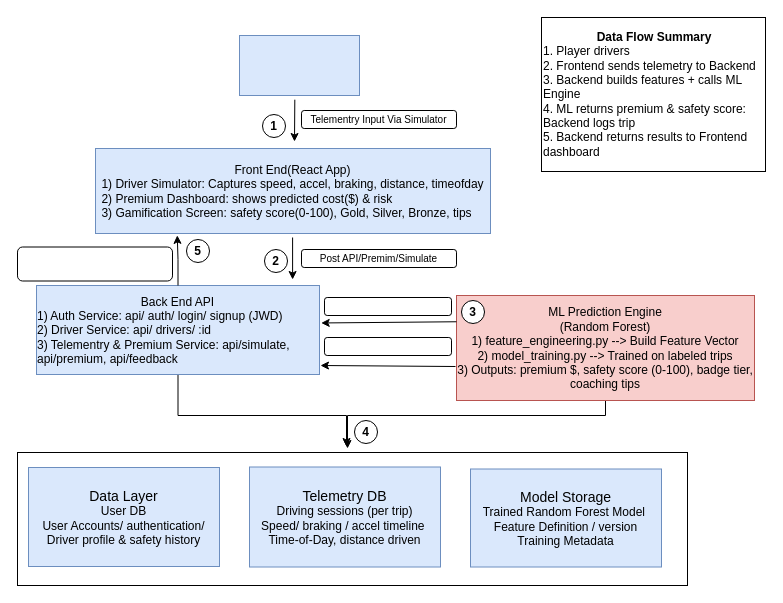
This 783x603 diagram has some shape labels left out. The box of each missing label's shape, as (x1, y1, x2, y2) in pixels:
Driver/Player: (238, 34, 360, 96)
Feature Vector Request: (324, 296, 452, 316)
Prediction Response: (324, 336, 452, 356)
Premium, SafetyScore, badge, recomendation: (16, 246, 172, 281)
